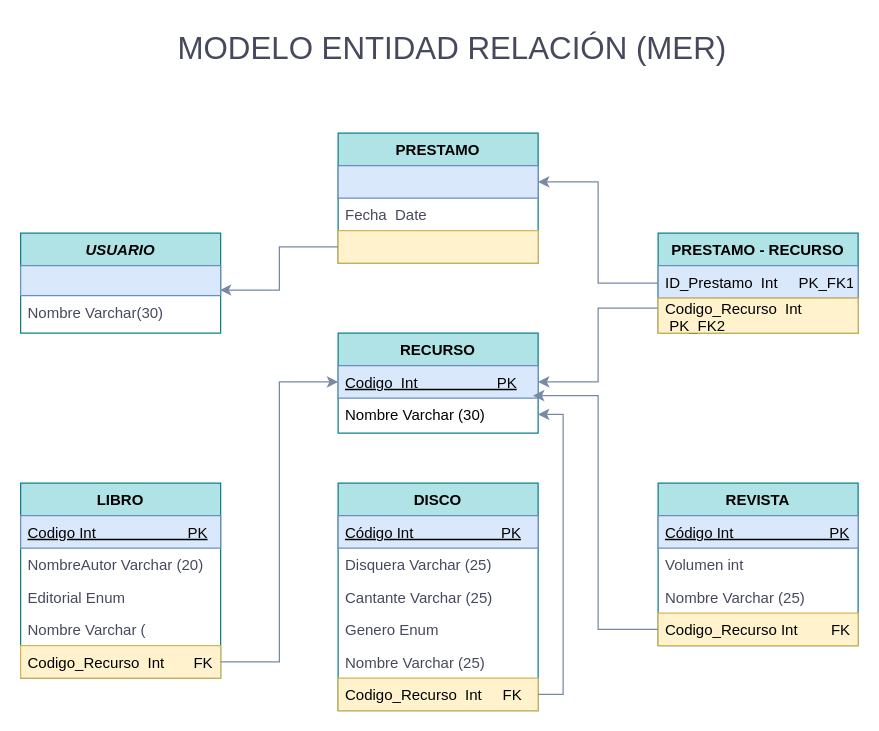
This 879x731 diagram has some shape labels left out. The shapes that lost their labels are listed below. From the top down, each one's centre as x and y in pixels, then its label:
(x=437, y=181): ID Int PK
(x=437, y=246): Cedula_Usuario Int FK
(x=120, y=280): Cedula Int PK
